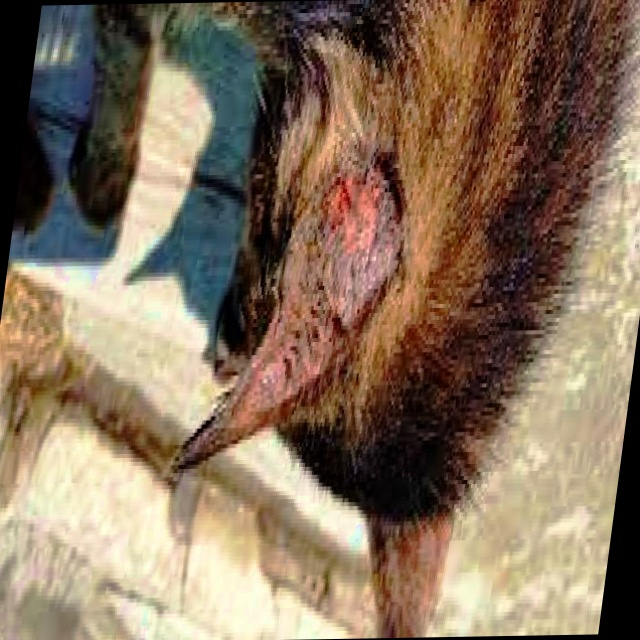ringworm: (287, 141, 410, 360)
